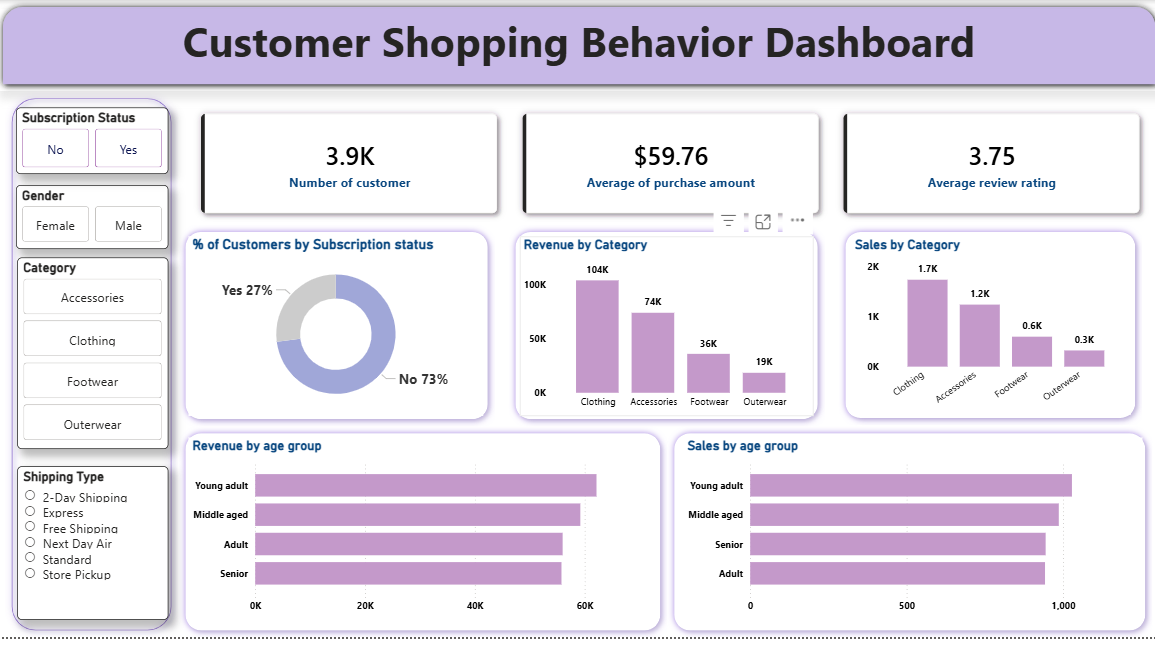

The page's visual inventory and layout, read from the dashboard file:
{"tool":"powerbi","page":{"name":"Page 1","canvas":[1500,820],"ordinal":0},"visuals":[{"type":"cardVisual","fields":{"Data":["customer.Number of customer","customer.Average of purchase amount","customer.Average review rating"]},"box":[234.8,117.4,1265.5,186.5],"z":0},{"type":"shape","box":[0,0,1500.3,117.4],"z":1000},{"type":"textbox","box":[0,11.3,1500.3,106.1],"z":2000},{"type":"shape","box":[234.8,289.5,406.8,258.9],"z":3000},{"type":"donutChart","title":"% of Customers by Subscription status","fields":{"Category":["customer.subscription_status"],"Y":["Count(customer.customer_id)"]},"box":[247.6,303.9,379.5,231.6],"z":4000},{"type":"shape","box":[659.3,289.5,406.8,258.9],"z":5000},{"type":"shape","box":[1083.8,289.5,390.8,257.3],"z":6000},{"type":"clusteredColumnChart","title":"Revenue by Category","fields":{"Y":["Sum(customer.purchase_amount_usd)"],"Category":["customer.category"]},"box":[673.8,303.9,377.9,231.6],"z":7000},{"type":"clusteredColumnChart","title":"Sales by Category","fields":{"Y":["Count(customer.customer_id)"],"Category":["customer.category"]},"box":[1099.9,303.9,360.2,230],"z":8000},{"type":"shape","box":[11.3,117.4,223.5,702.7],"z":9000},{"type":"advancedSlicerVisual","title":"Gender","fields":{"Values":["customer.gender"]},"box":[25.7,238,196.2,82],"z":10000},{"type":"advancedSlicerVisual","title":"Category","fields":{"Values":["customer.category"]},"box":[27.3,331.3,194.6,246],"z":11000},{"type":"listSlicer","title":"Shipping Type","fields":{"Values":["customer.shipping_type"]},"box":[27.3,588.6,194.6,220.3],"z":12000},{"type":"shape","box":[234.8,548.4,628.8,271.8],"z":13000},{"type":"shape","box":[863.5,548.4,623.9,271.8],"z":14000},{"type":"clusteredBarChart","title":"Revenue by age group","fields":{"Y":["Sum(customer.purchase_amount_usd)"],"Category":["customer.age_group"]},"box":[247.6,562.8,596.6,234.8],"z":15000},{"type":"clusteredBarChart","title":"Sales by age group","fields":{"Y":["Count(customer.customer_id)"],"Category":["customer.age_group"]},"box":[884.4,562.8,590.2,234.8],"z":16000},{"type":"advancedSlicerVisual","title":"Subscription Status","fields":{"Values":["customer.subscription_status"]},"box":[25.7,138.3,196.2,85.2],"z":17000}]}

Visuals, with their boxes in screenshot pixels (x1, y1, x2, y2):
cardVisual - customer.Number of customer x customer.Average of purchase amount: bbox(173, 83, 1154, 230)
shape: bbox(0, 0, 1154, 83)
textbox: bbox(0, 0, 1154, 83)
shape: bbox(173, 219, 493, 423)
"% of Customers by Subscription status" donutChart: bbox(183, 230, 482, 413)
shape: bbox(507, 219, 827, 423)
shape: bbox(841, 219, 1149, 421)
"Revenue by Category" clusteredColumnChart: bbox(518, 230, 816, 413)
"Sales by Category" clusteredColumnChart: bbox(854, 230, 1137, 411)
shape: bbox(0, 83, 173, 637)
"Gender" advancedSlicerVisual: bbox(8, 178, 163, 243)
"Category" advancedSlicerVisual: bbox(9, 252, 163, 445)
"Shipping Type" listSlicer: bbox(9, 454, 163, 628)
shape: bbox(173, 423, 668, 637)
shape: bbox(668, 423, 1154, 637)
"Revenue by age group" clusteredBarChart: bbox(183, 434, 653, 619)
"Sales by age group" clusteredBarChart: bbox(684, 434, 1149, 619)
"Subscription Status" advancedSlicerVisual: bbox(8, 100, 163, 167)
